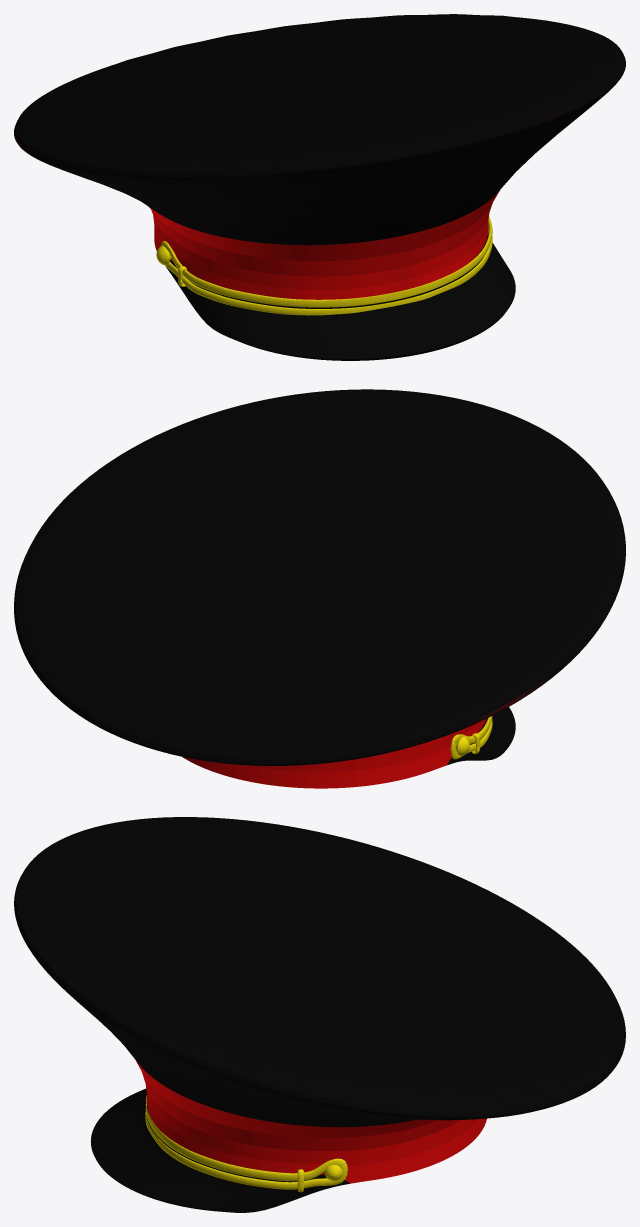
Rendered from formal.glb.
The picture shows the model from 3 angles, top to bottom: view 1: azimuth 30°, elevation 25°; view 2: azimuth 150°, elevation 25°; view 3: azimuth 270°, elevation 25°; orthographic projection. The views are drawn at different scales.
Visible parts, largest first — view 1: Circle, Cube; view 2: Circle, Cube; view 3: Circle, Cube.
Part boxes in pixels (x1,y1,x2,y2): Circle: (14,14,625,360); Cube: (161,216,492,315); Circle: (14,389,625,788); Cube: (450,716,492,759); Circle: (14,817,625,1212); Cube: (145,1095,347,1192).
Bounding box in the file's own units: 3.67 × 1.59 × 3.57.
